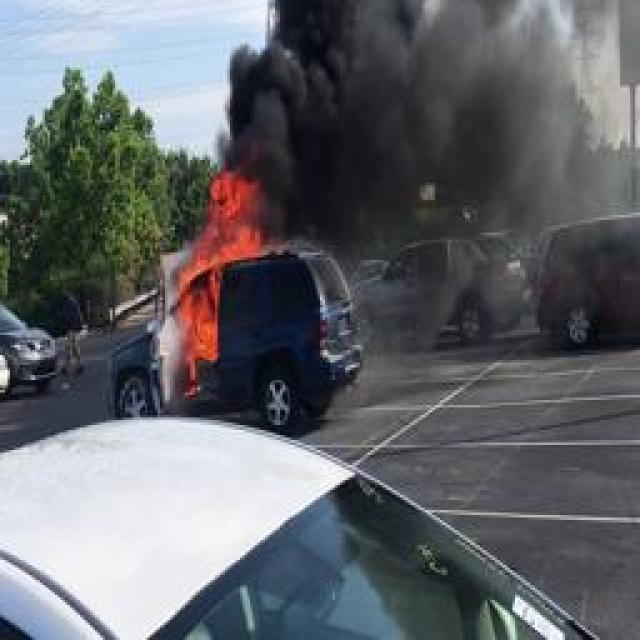Fire: (153, 167, 268, 249), (167, 260, 221, 380)
Smoke: (208, 0, 632, 198)
